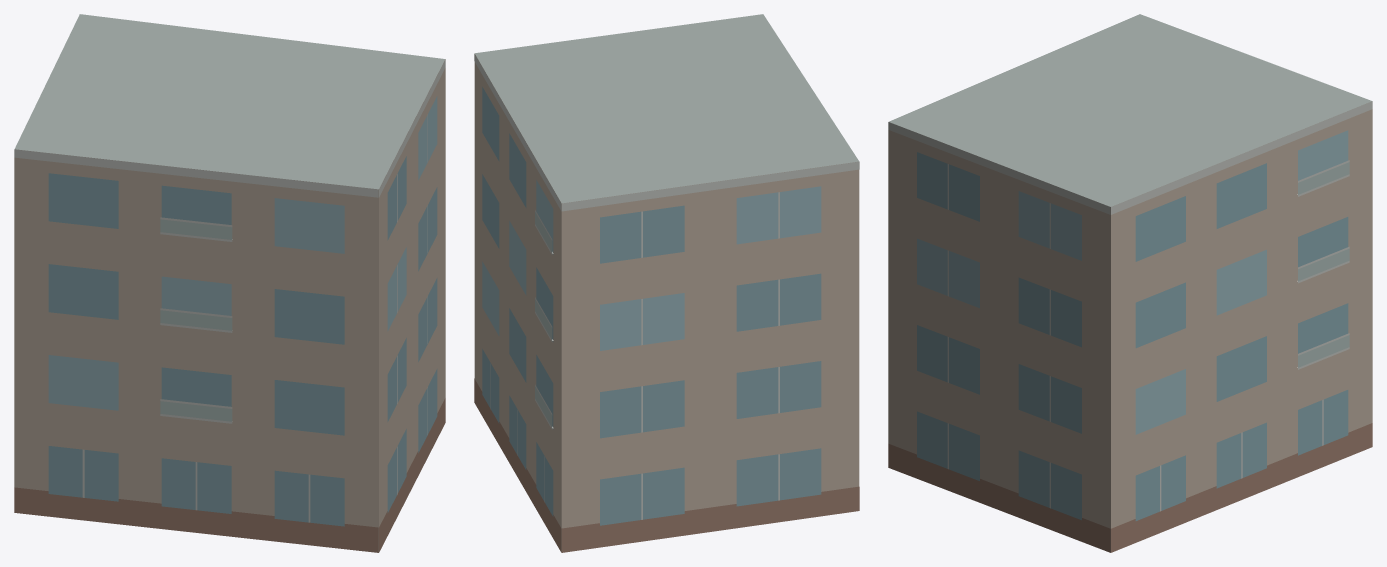
Rendered from survey-upis-32782601.glb.
3 views of the same model, side by side, from view 1: azimuth 30°, elevation 25°; view 2: azimuth 150°, elevation 25°; view 3: azimuth 270°, elevation 25° (orthographic). The views are drawn at different scales.
Parts seen in each view (by area): view 1: survey-upis-32782601.tmp; view 2: survey-upis-32782601.tmp; view 3: survey-upis-32782601.tmp.
Part boxes in pixels (x1,y1,x2,y2): survey-upis-32782601.tmp: (14,14,445,552); survey-upis-32782601.tmp: (474,14,859,552); survey-upis-32782601.tmp: (888,14,1372,552).
Size of the model in its own units: 12.7 by 10.6 by 13.46.
